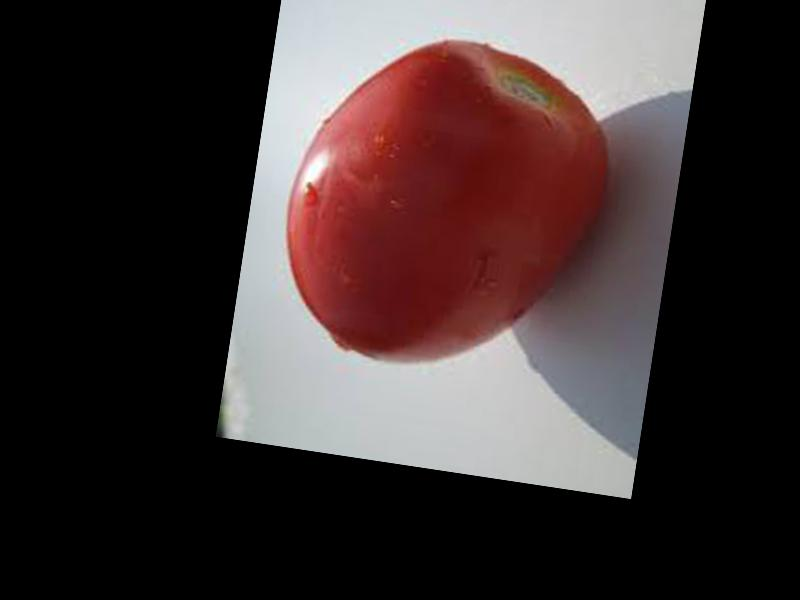Tomato: (267, 19, 622, 388)
